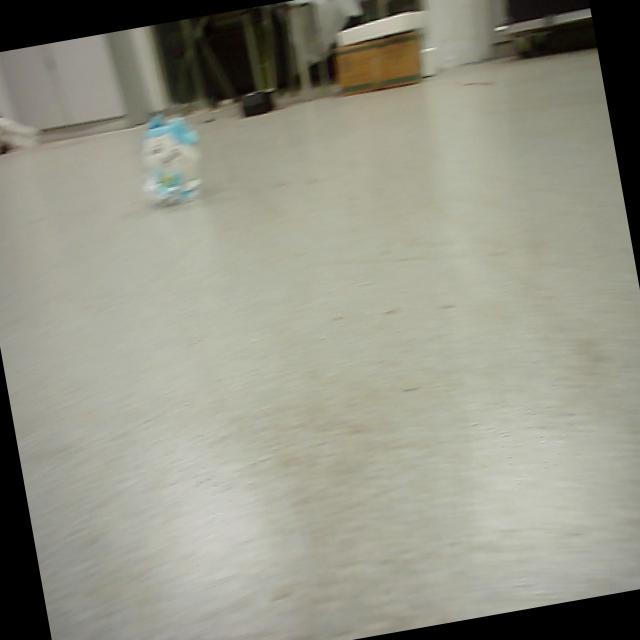xiaoba: (128, 104, 210, 212)
